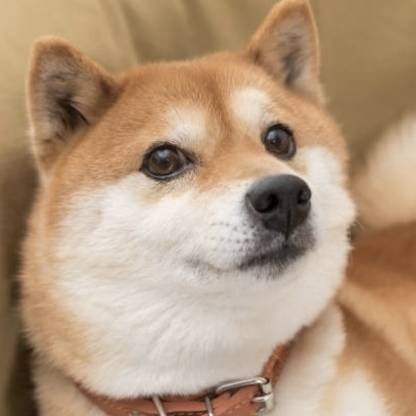shiba: (9, 1, 416, 416)
